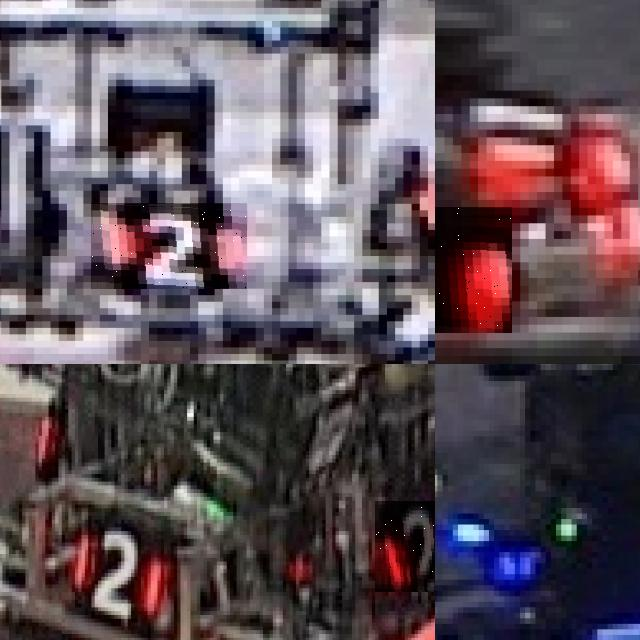R1: (435, 207, 511, 332)
R2: (91, 203, 248, 289), (68, 524, 161, 618), (375, 500, 435, 592)
